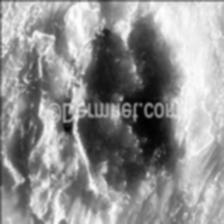Potentially Malignant Skin Tumors: (0, 4, 185, 224)
